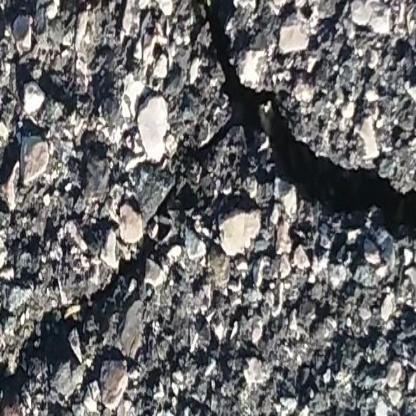Cracks: (0, 0, 416, 409), (0, 113, 44, 246), (16, 54, 79, 109), (0, 0, 52, 65)
